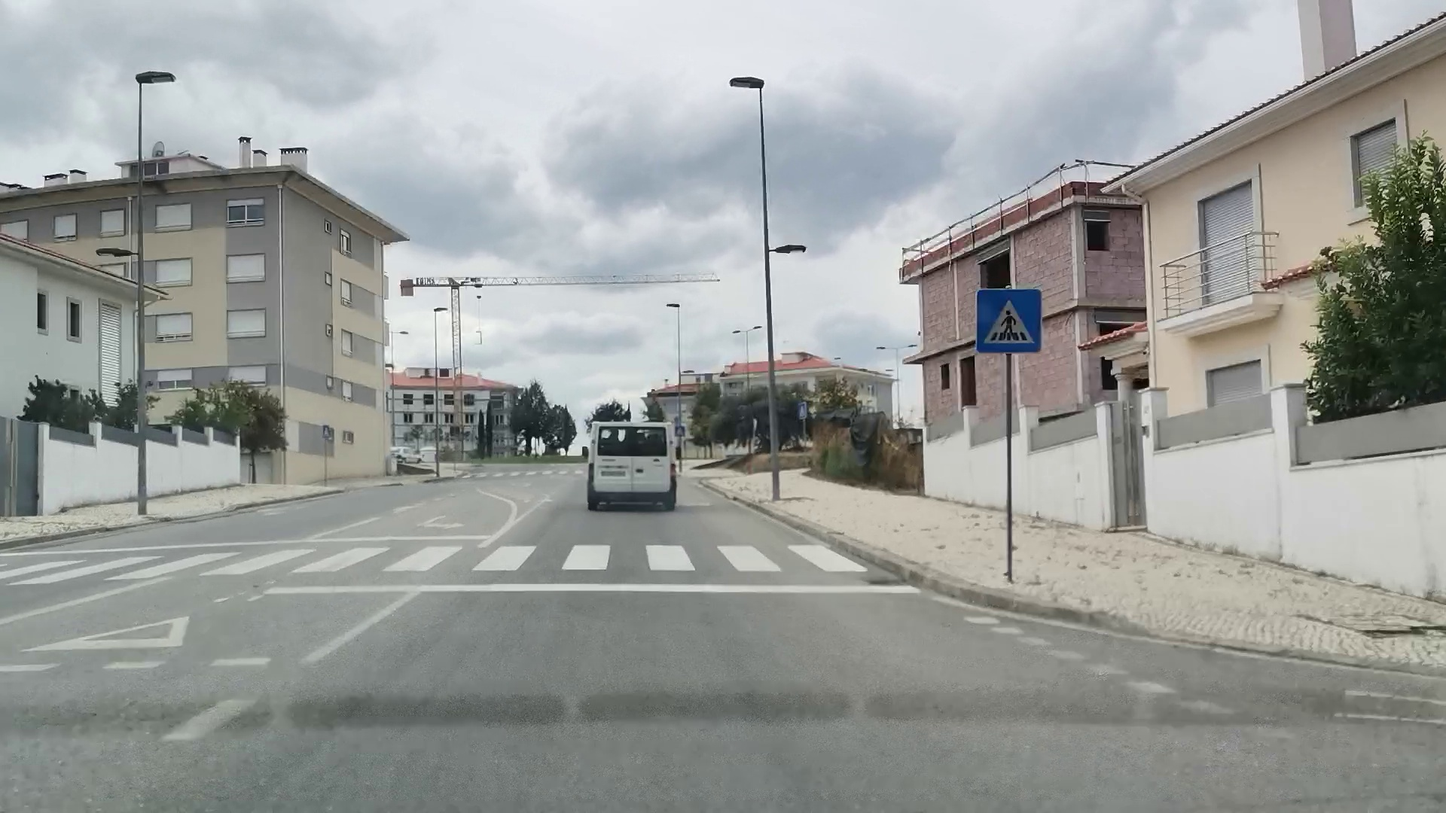Stairs: (0, 541, 869, 585)
